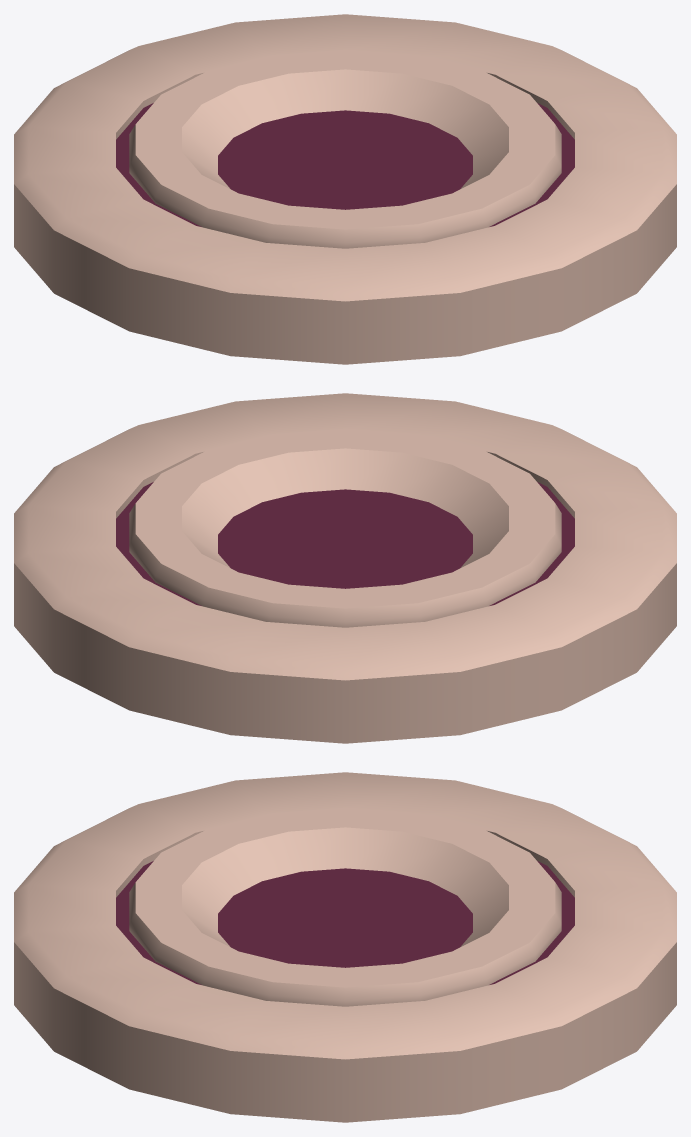
Rendered from pr_Goal.FBX.
3 renders of one model, top to bottom at view 1: azimuth 30°, elevation 25°; view 2: azimuth 150°, elevation 25°; view 3: azimuth 270°, elevation 25°, orthographic.
Visible parts, largest first — view 1: pr_Goal; view 2: pr_Goal; view 3: pr_Goal.
Part boxes in pixels (box(x1,y1,x2,y2)): pr_Goal: box(14, 14, 676, 364); pr_Goal: box(14, 393, 676, 743); pr_Goal: box(14, 772, 676, 1122).
Size of the model in its own units: 200 by 27.16 by 197.
Materials: 1 (1 with a texture image).
